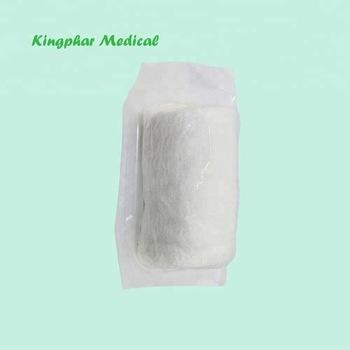bandage: (140, 106, 237, 270)
